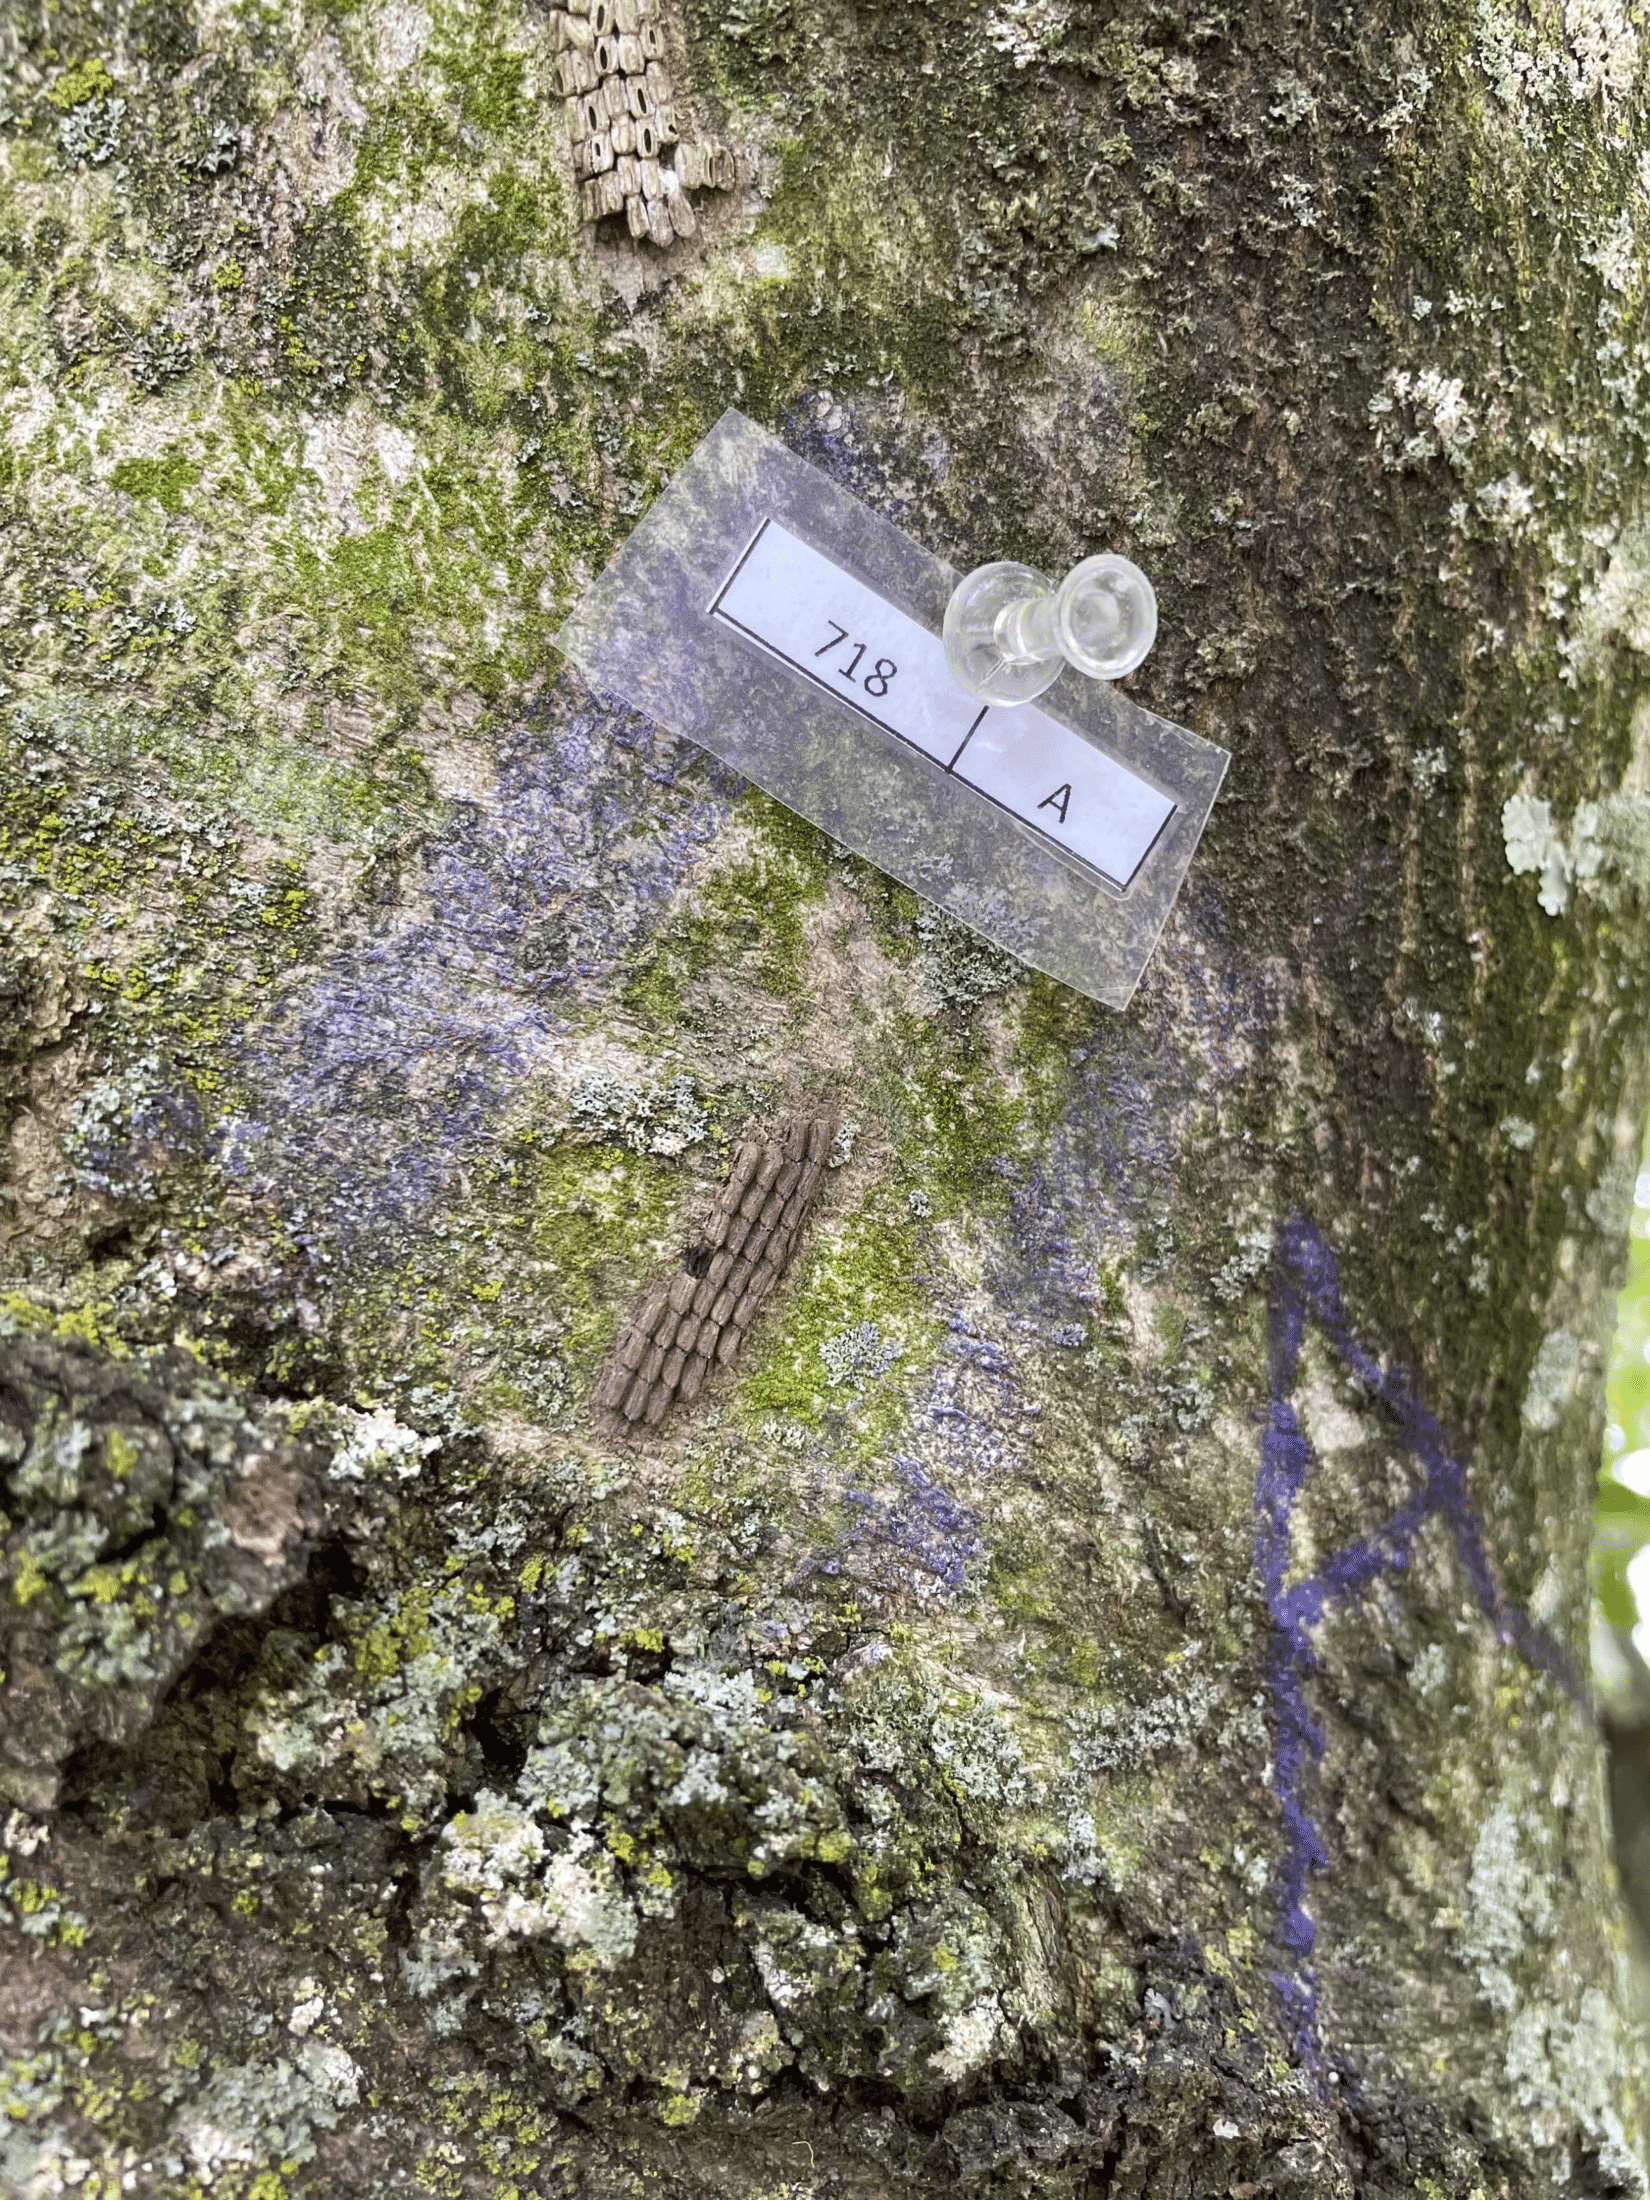egg masses: (619, 1093, 823, 1438), (541, 0, 733, 282)
